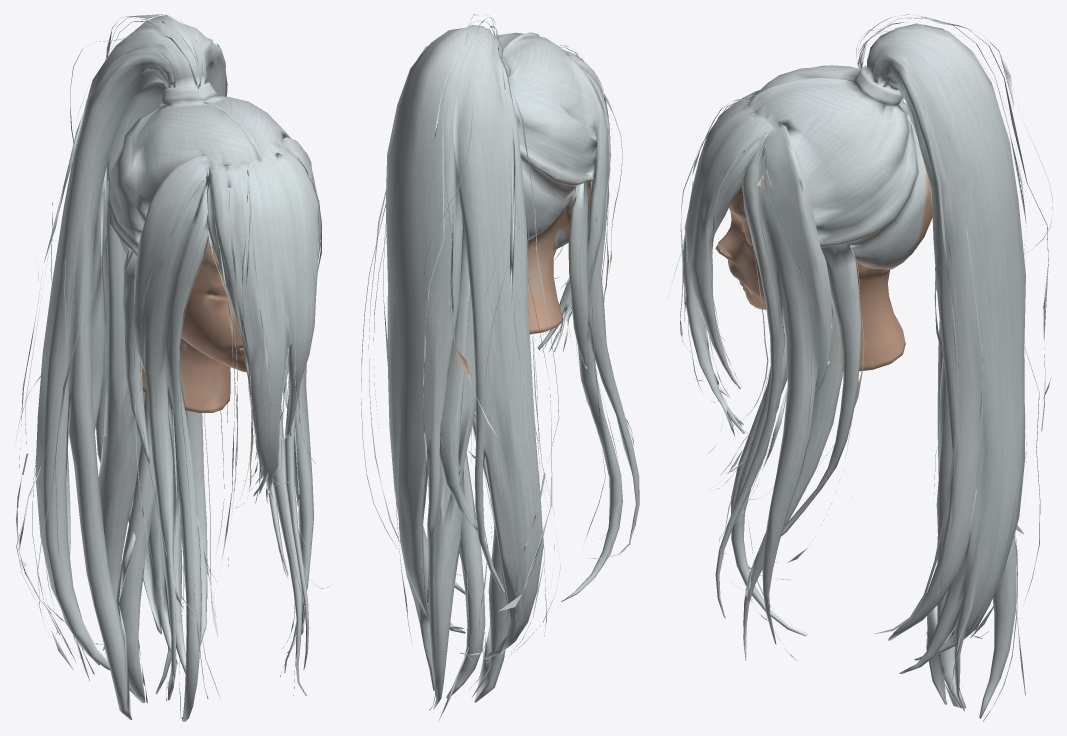
File: hair-2.glb
The picture shows the model from 3 angles, left to right: view 1: azimuth 30°, elevation 25°; view 2: azimuth 150°, elevation 25°; view 3: azimuth 270°, elevation 25°; orthographic projection. The views are drawn at different scales.
Size of the model in its own units: 0.2896 by 0.9517 by 0.4736.
Materials: 1 (1 with a texture image).
